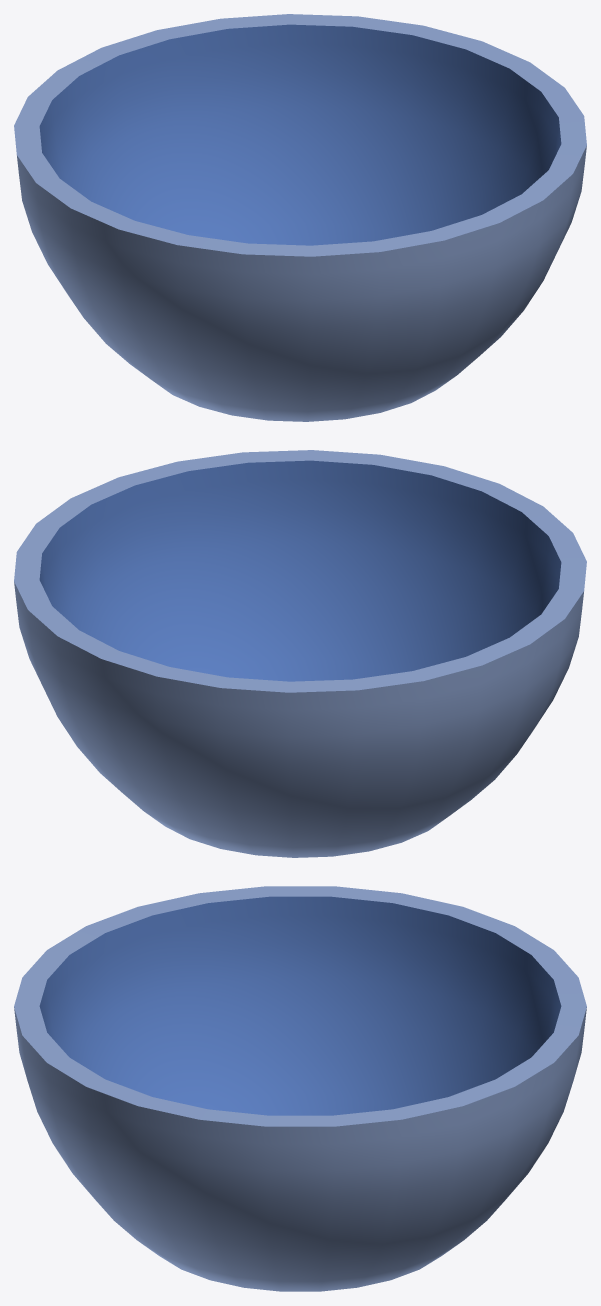
File: Plate D.fbx
3 views of the same model, one above another, from view 1: azimuth 30°, elevation 25°; view 2: azimuth 150°, elevation 25°; view 3: azimuth 270°, elevation 25° (orthographic).
Visible parts, largest first — view 1: Plate.003; view 2: Plate.003; view 3: Plate.003.
Part boxes in pixels (bbox=[...]): Plate.003: bbox=[14, 14, 586, 421]; Plate.003: bbox=[14, 450, 586, 857]; Plate.003: bbox=[14, 886, 586, 1291].
Size of the model in its own units: 0.6895 by 0.2923 by 0.6946.
